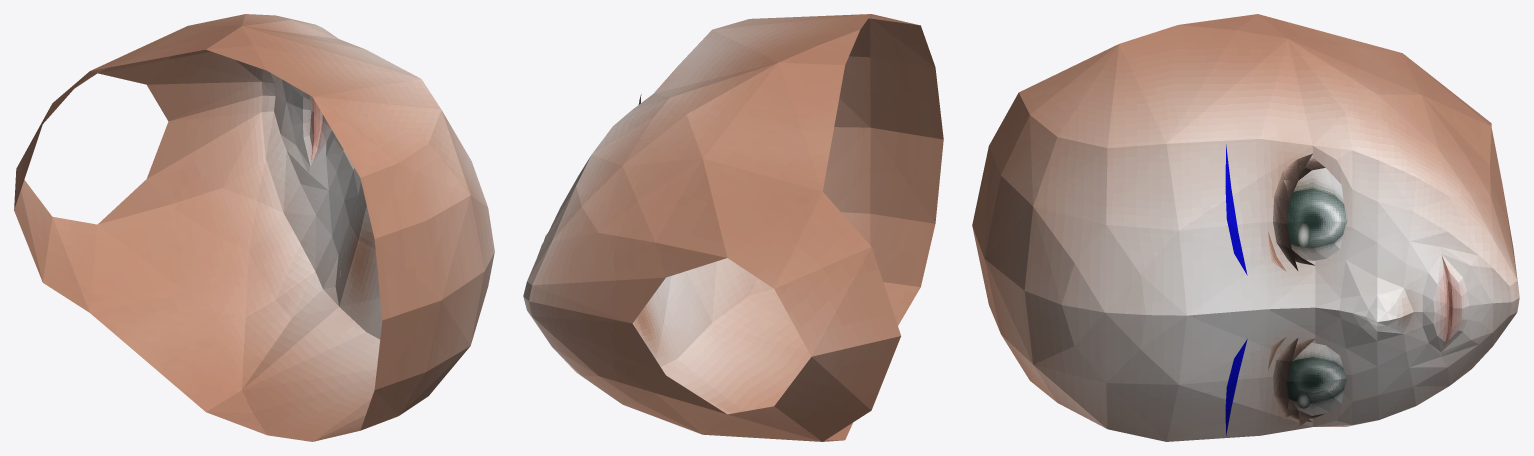
Rendered from Npc_60033.obj.
The picture shows the model from 3 angles, left to right: view 1: azimuth 30°, elevation 25°; view 2: azimuth 150°, elevation 25°; view 3: azimuth 270°, elevation 25°; orthographic projection. The views are drawn at different scales.
Parts seen in each view (by area): view 1: Npc_60033; view 2: Npc_60033; view 3: Npc_60033.
Part boxes in pixels (x1,y1,x2,y2): Npc_60033: [14, 14, 494, 441]; Npc_60033: [523, 14, 943, 441]; Npc_60033: [972, 14, 1519, 441].
Size of the model in its own units: 0.3508 by 0.3499 by 0.4495.
Materials: 2 (1 with a texture image).
